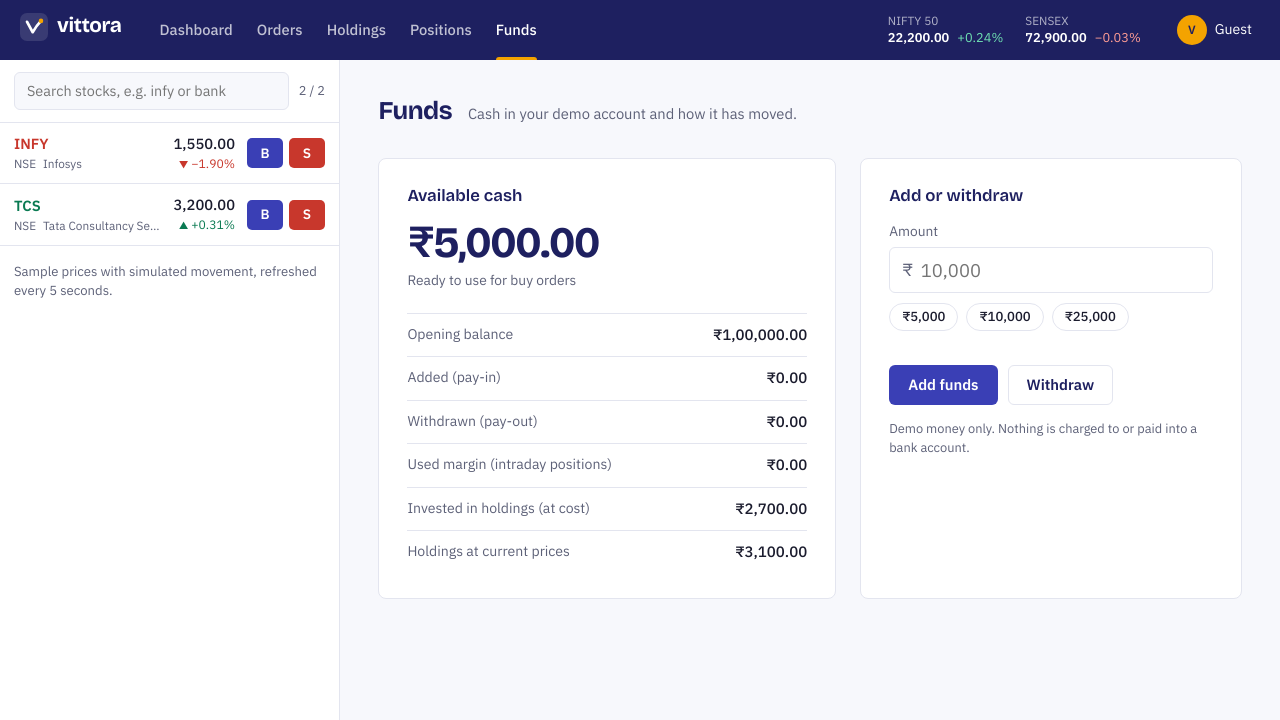
funds page validates the amount and adds money
Click the button "Add funds": (943, 385) [889,365,998,405]
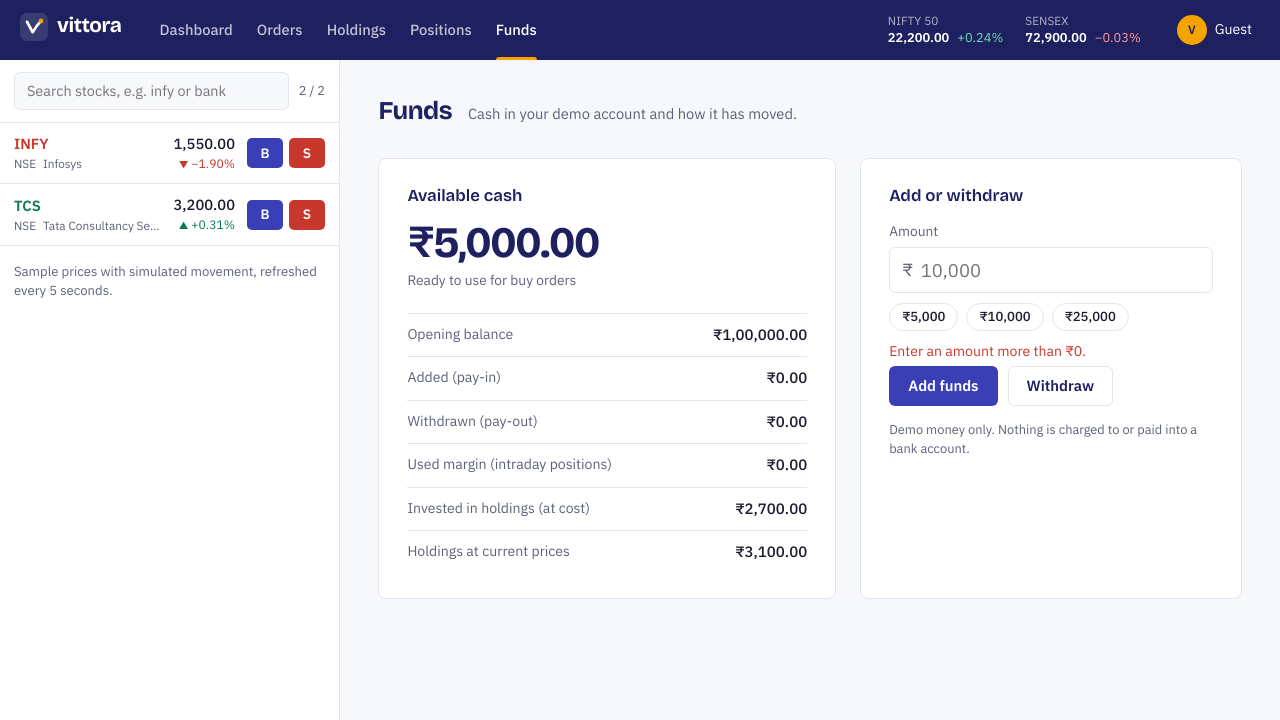
Expected: the message shows "more than ₹0", [889,342,1086,360]
Click the button "₹5,000": (924, 317) [889,303,958,331]
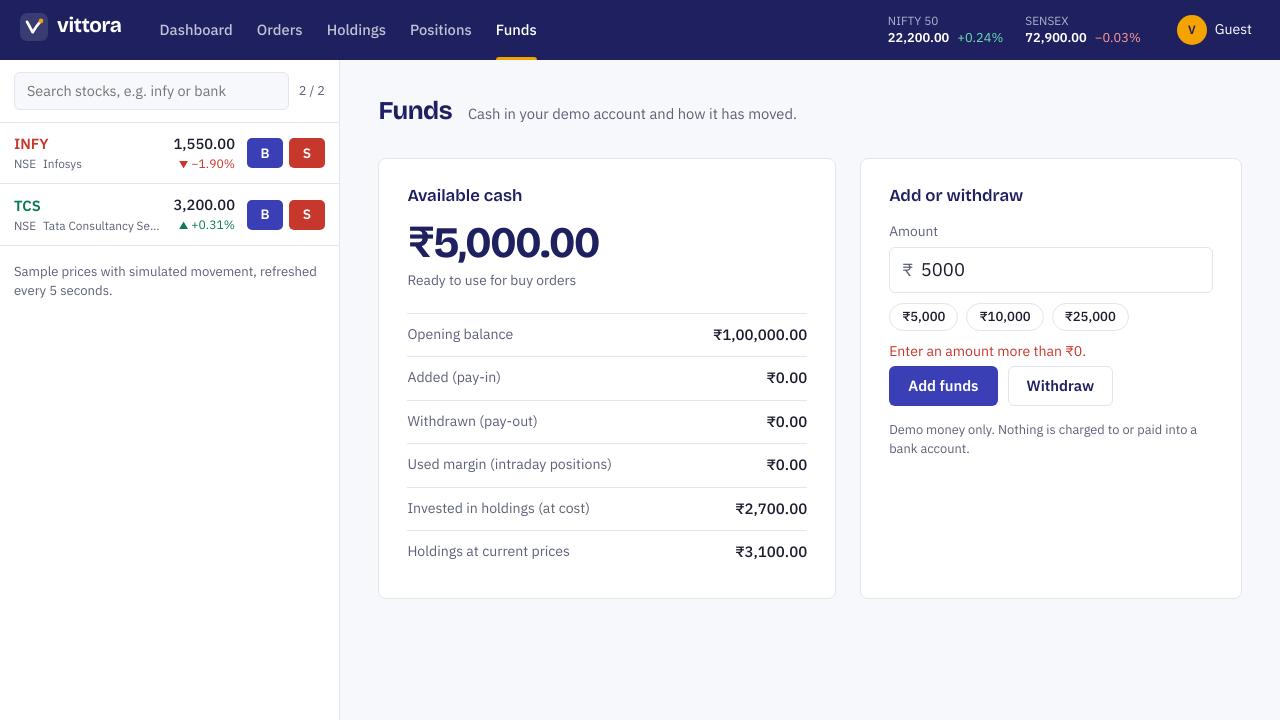
Click the button "Add funds": (943, 386) [889,366,998,406]
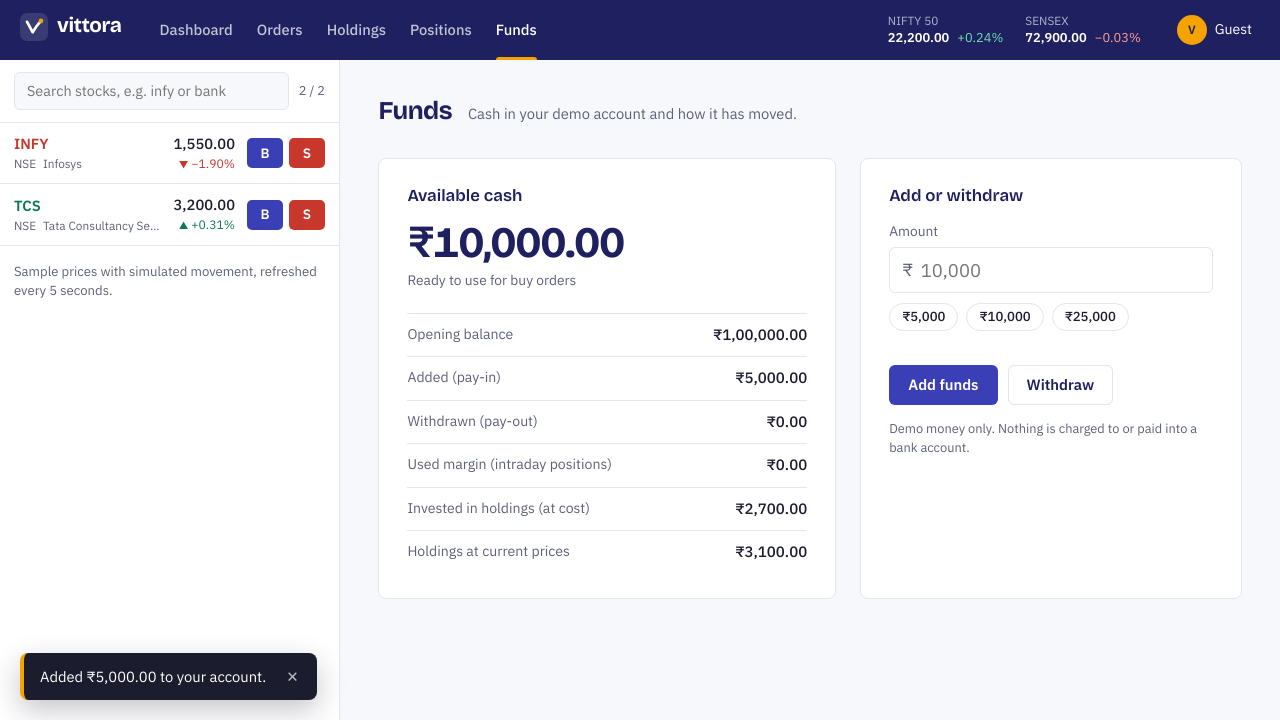
Expected: the text "₹10,000.00" is shown, [407,217,624,269]
